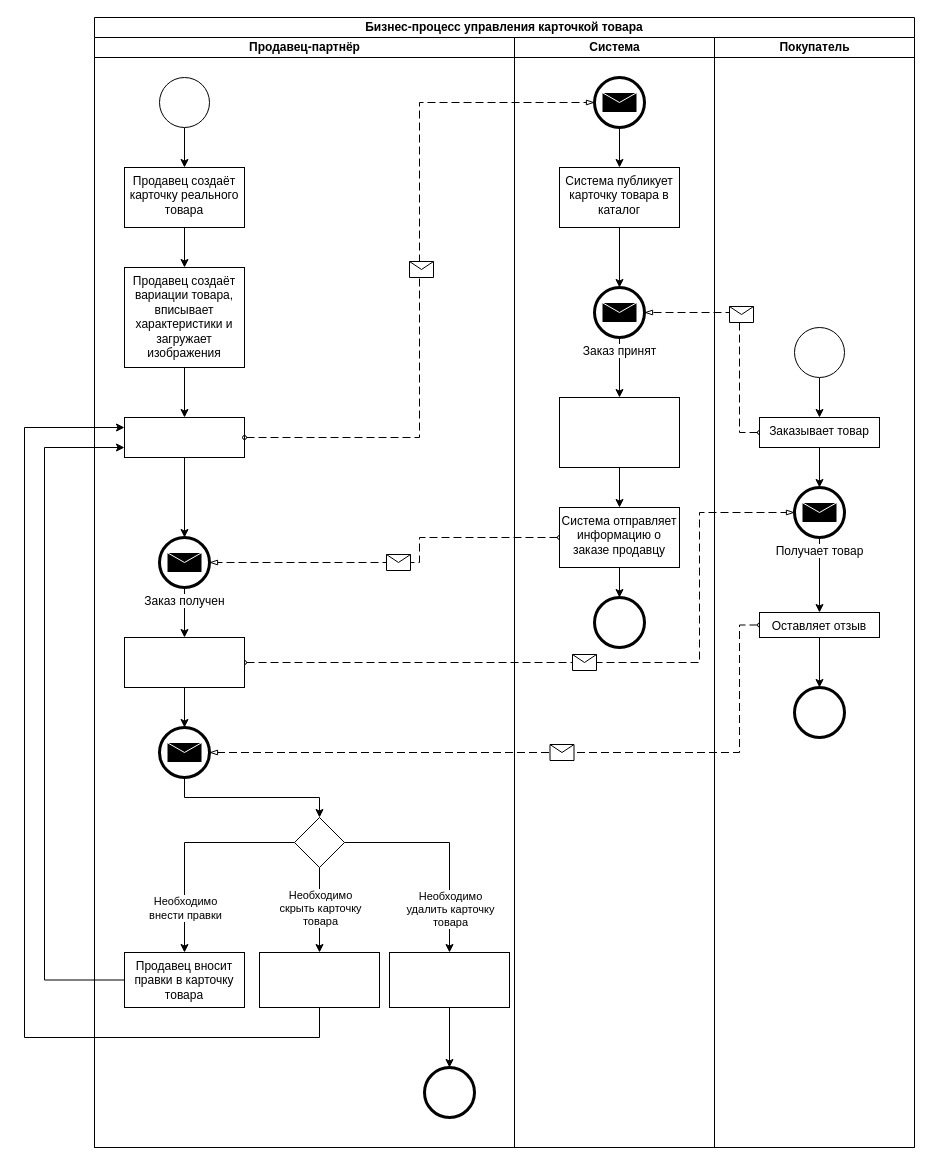
This 932x1165 diagram has some shape labels left out. Here are the shapes that lost their labels. From the top down, the box of each, then its label:
(594, 76, 644, 128): Карточка товара принята
(124, 416, 244, 458): Продавец публикует карточку товара
(558, 396, 680, 468): Система вычитает заказанное количество товара из заявленного
(124, 636, 244, 688): Продавец собирает и отправляет заказ
(158, 726, 210, 778): Отзыв получен
(258, 952, 380, 1008): Продавец скрывает карточкутовара из каталога
(388, 952, 510, 1008): Продавец удаляет карточку товара
